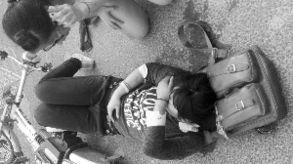Fall-Detected: (31, 47, 228, 164)
